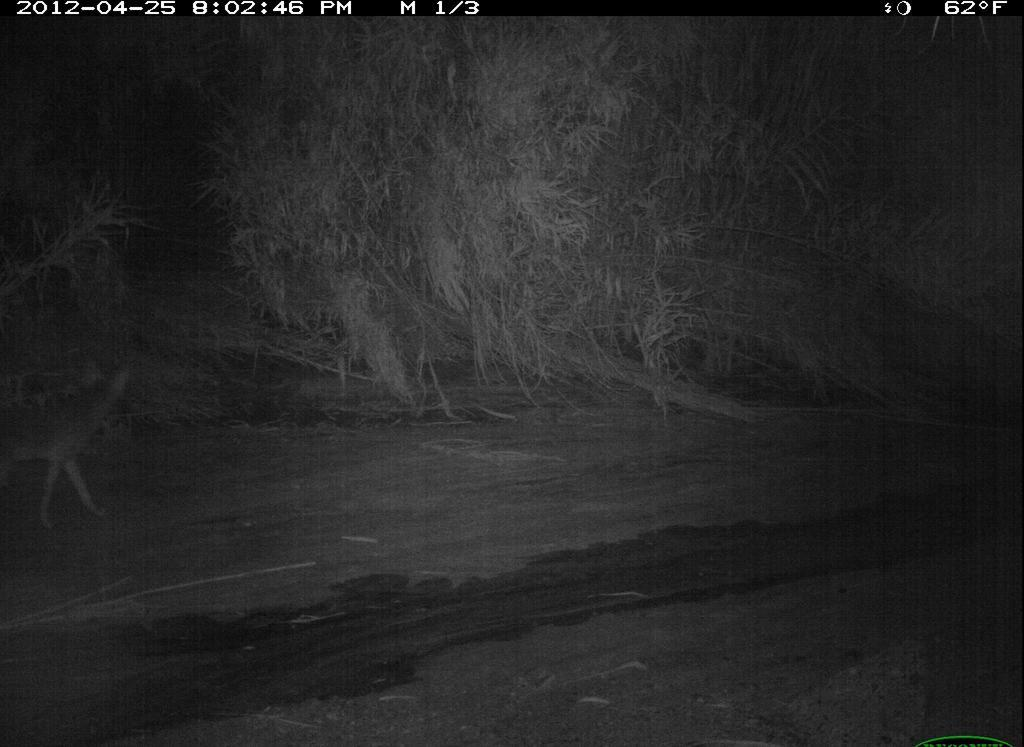coyote: (8, 346, 148, 539)
